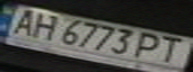3: (112, 26, 139, 57)
6: (54, 17, 84, 47)
7: (72, 20, 100, 51), (93, 22, 118, 55)
A: (0, 7, 42, 36)
H: (21, 11, 63, 42)
P: (130, 30, 169, 61)
T: (151, 34, 190, 63)
